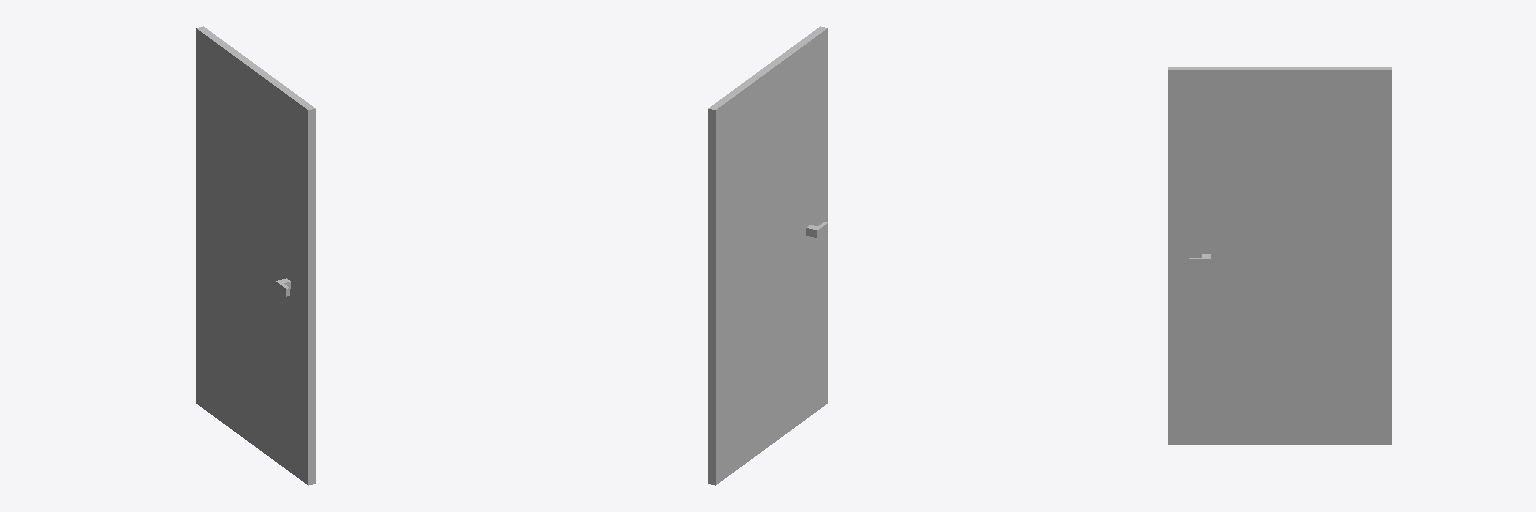
File: Door.obj
The picture shows the model from 3 angles: view 1: azimuth 30°, elevation 25°; view 2: azimuth 150°, elevation 25°; view 3: azimuth 270°, elevation 25°; orthographic projection.
Visible parts, largest first — view 1: Door; view 2: Door; view 3: Door.
Part boxes in pixels (x1,y1,x2,y2): Door: (196,26,315,485); Door: (708,26,827,485); Door: (1168,67,1391,444).
Bounding box in the file's own units: 8 × 96 × 52.